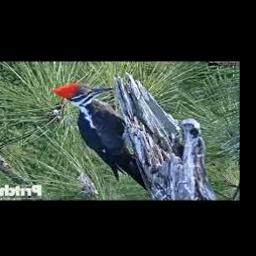Woodpecker: (52, 83, 150, 193)
